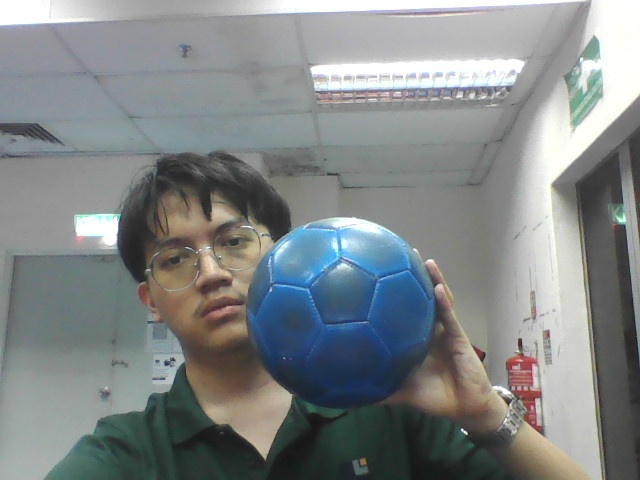Blue: (247, 217, 435, 408)
